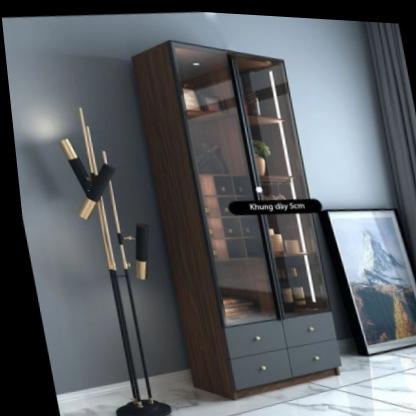Cupboard: (130, 39, 334, 399)
